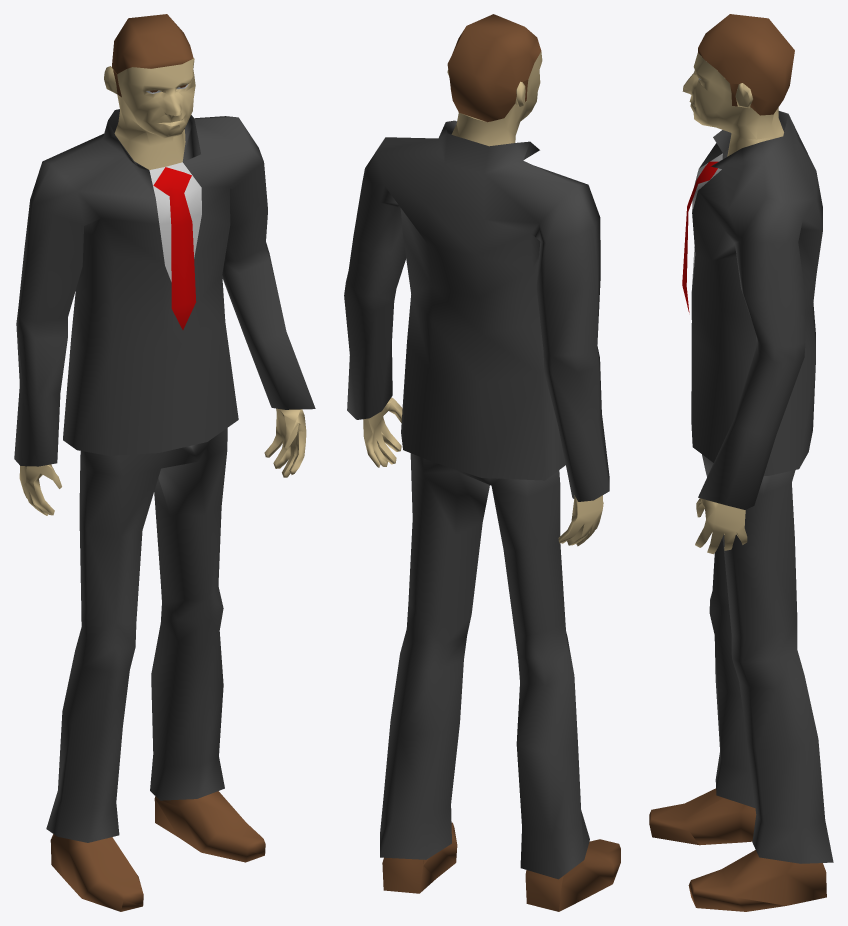
The model's file is officeworker.dae.
3 renders of one model, left to right at view 1: azimuth 30°, elevation 25°; view 2: azimuth 150°, elevation 25°; view 3: azimuth 270°, elevation 25°, orthographic.
Parts seen in each view (by area): view 1: polymsh_Pts_Material__2__Surf, polymsh2_Pts_Material__3__Surf, polymsh4_Pts_Material__5__Surf, polymsh_detached5_Pts_Material__1__Surf, polymsh3_Pts_Material__4__Surf; view 2: polymsh_Pts_Material__2__Surf, polymsh2_Pts_Material__3__Surf, polymsh4_Pts_Material__5__Surf; view 3: polymsh_Pts_Material__2__Surf, polymsh2_Pts_Material__3__Surf, polymsh4_Pts_Material__5__Surf, polymsh_detached5_Pts_Material__1__Surf.
Boxes of the visible parts, <box> form: polymsh_Pts_Material__2__Surf: <box>14,109,315,842</box>; polymsh2_Pts_Material__3__Surf: <box>50,14,265,911</box>; polymsh4_Pts_Material__5__Surf: <box>19,58,306,515</box>; polymsh_detached5_Pts_Material__1__Surf: <box>153,167,196,329</box>; polymsh3_Pts_Material__4__Surf: <box>146,84,201,281</box>; polymsh_Pts_Material__2__Surf: <box>344,120,609,879</box>; polymsh2_Pts_Material__3__Surf: <box>382,14,620,911</box>; polymsh4_Pts_Material__5__Surf: <box>363,51,603,546</box>; polymsh_Pts_Material__2__Surf: <box>691,111,833,863</box>; polymsh2_Pts_Material__3__Surf: <box>649,14,826,911</box>; polymsh4_Pts_Material__5__Surf: <box>682,53,783,554</box>; polymsh_detached5_Pts_Material__1__Surf: <box>682,161,718,312</box>.
Size of the model in its own units: 6.36 by 18.8 by 3.73.
